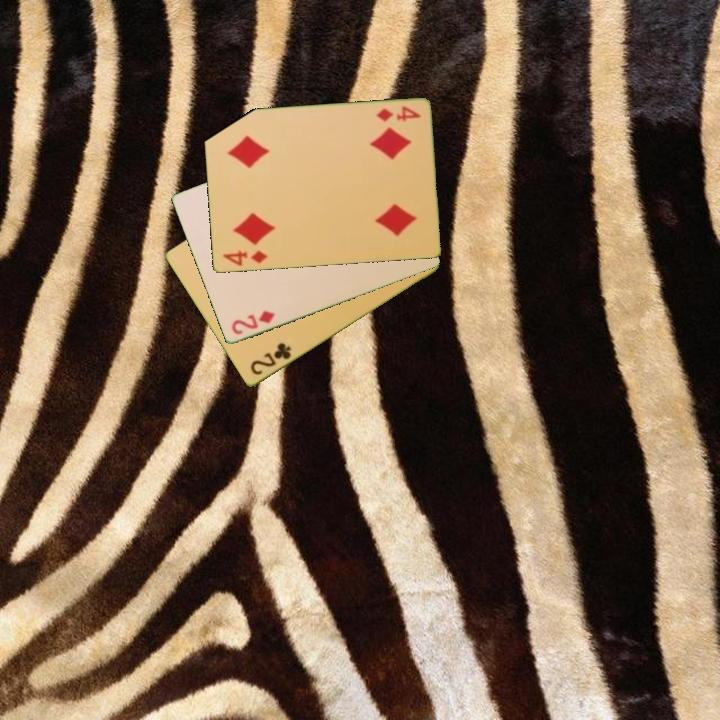2c: (247, 339, 294, 379)
2d: (228, 307, 278, 338)
4d: (219, 247, 270, 269), (373, 103, 423, 125)
